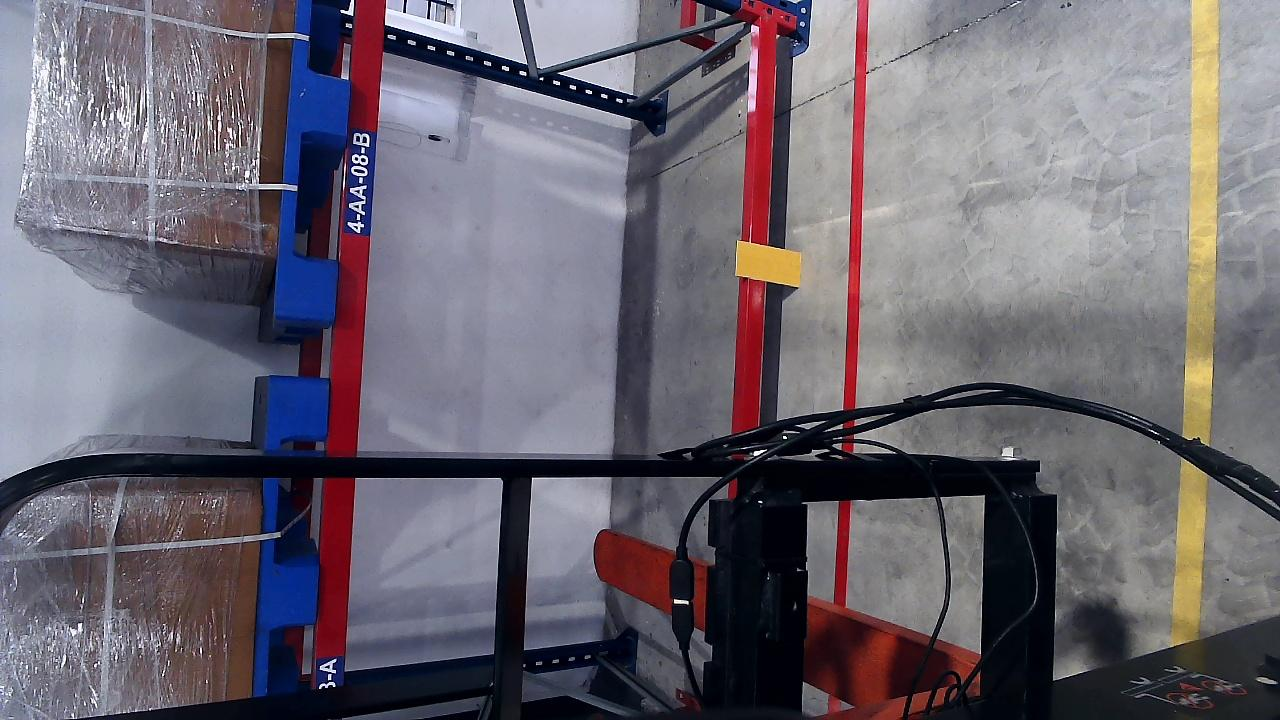h_rack: (324, 0, 391, 689), (735, 12, 782, 432)
orange_strip: (735, 241, 801, 287)
red_line: (842, 4, 868, 409)
small_pallet: (254, 377, 327, 695), (271, 0, 343, 321)
yellow_line: (1181, 0, 1221, 445), (1171, 431, 1211, 646)
